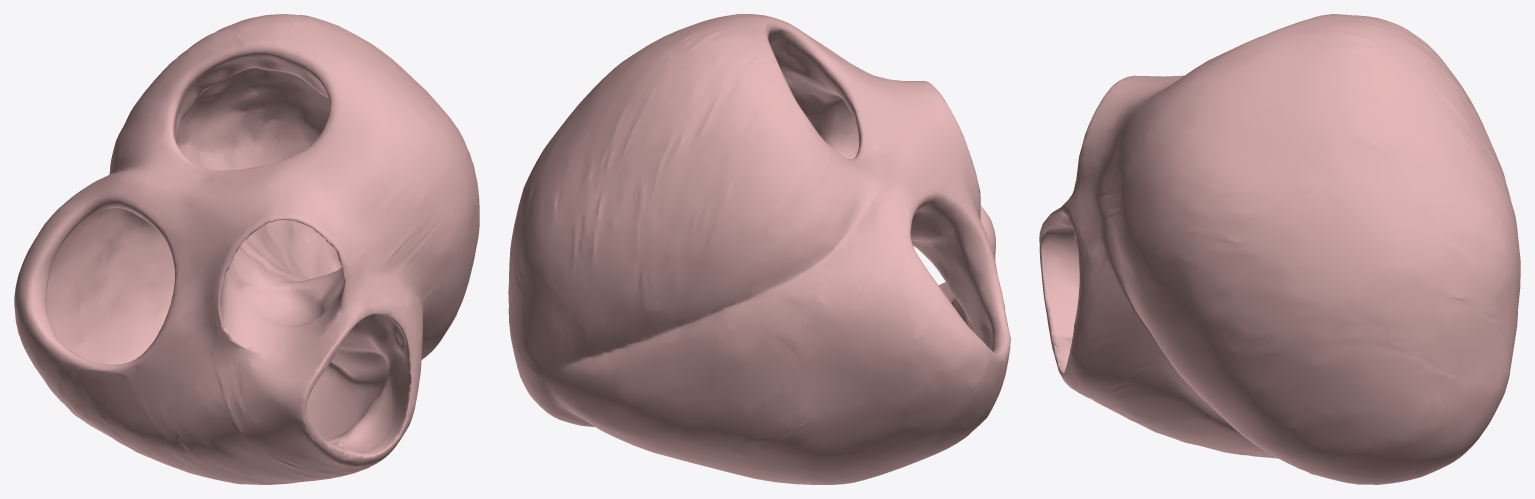
File: ventricle-wall.glb
3 renders of one model, left to right at view 1: azimuth 30°, elevation 25°; view 2: azimuth 150°, elevation 25°; view 3: azimuth 270°, elevation 25°, orthographic. The views are drawn at different scales.
Parts seen in each view (by area): view 1: structure; view 2: structure; view 3: structure.
Part boxes in pixels (bbox=[...]): structure: bbox=[14, 14, 479, 484]; structure: bbox=[508, 14, 1010, 484]; structure: bbox=[1039, 14, 1520, 484].
Bounding box in the file's own units: 102 × 93.52 × 91.74.
